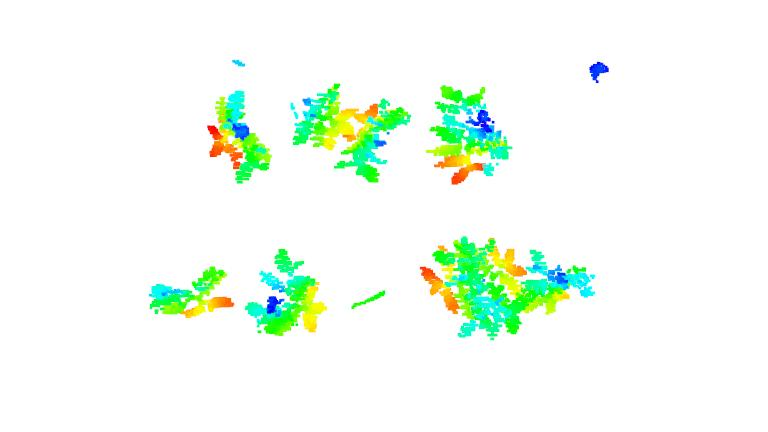chickpea: (498, 242, 594, 337), (429, 85, 515, 185), (426, 238, 504, 344), (202, 79, 277, 189), (241, 248, 329, 340), (334, 99, 412, 192), (287, 73, 356, 161), (148, 267, 239, 316)
